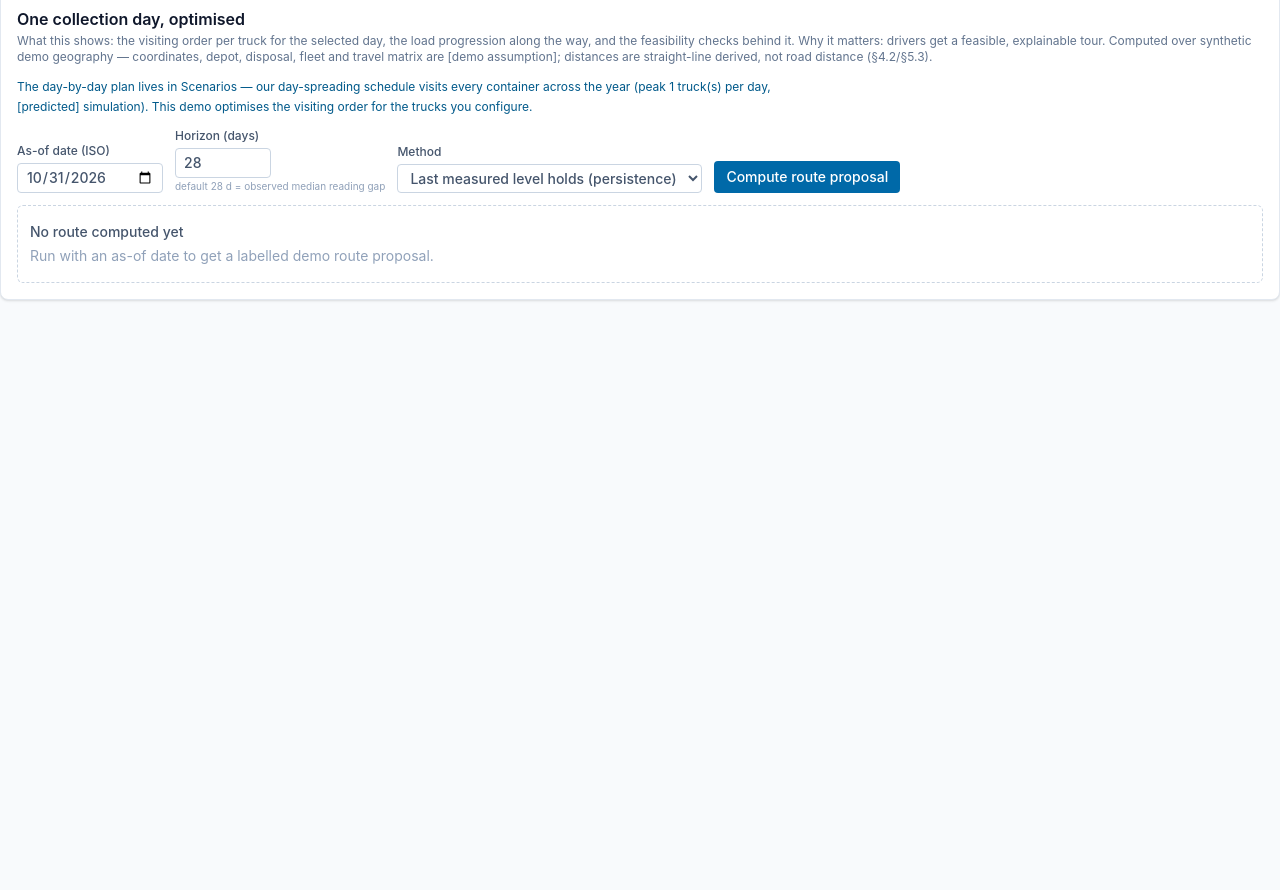
Test case: RoutePanel — existing states preserved › warns (but does not hide) when the solver returns infeasible
Step 1. Click the button with test id "route-run" → click(807, 177), box [714,161,900,193]
(page scrolled)
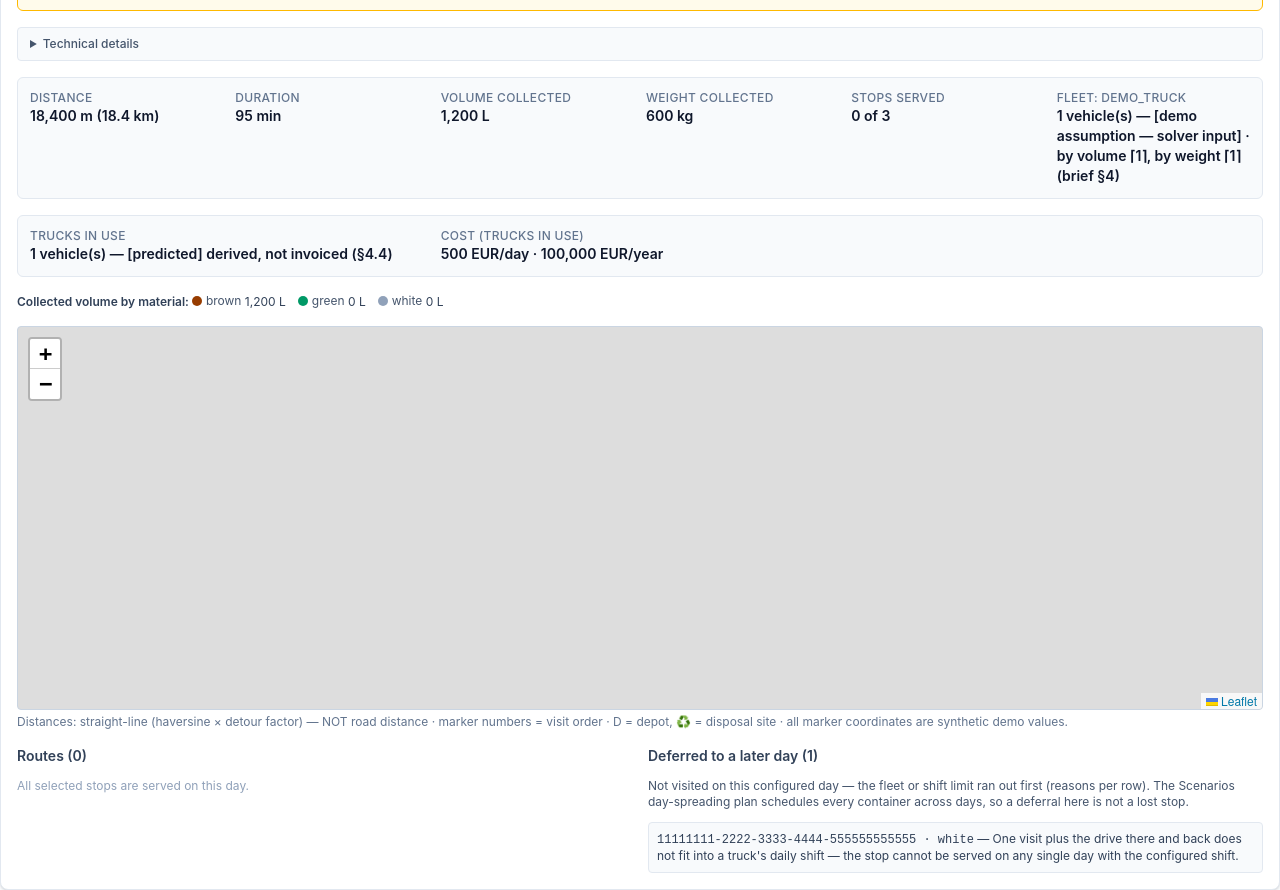
Now the list with test id "deferred-list" shows "daily shift", box [657,831,1242,863]
